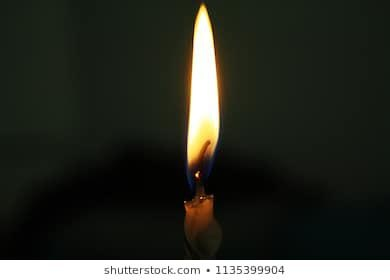fire: (186, 0, 222, 176)
